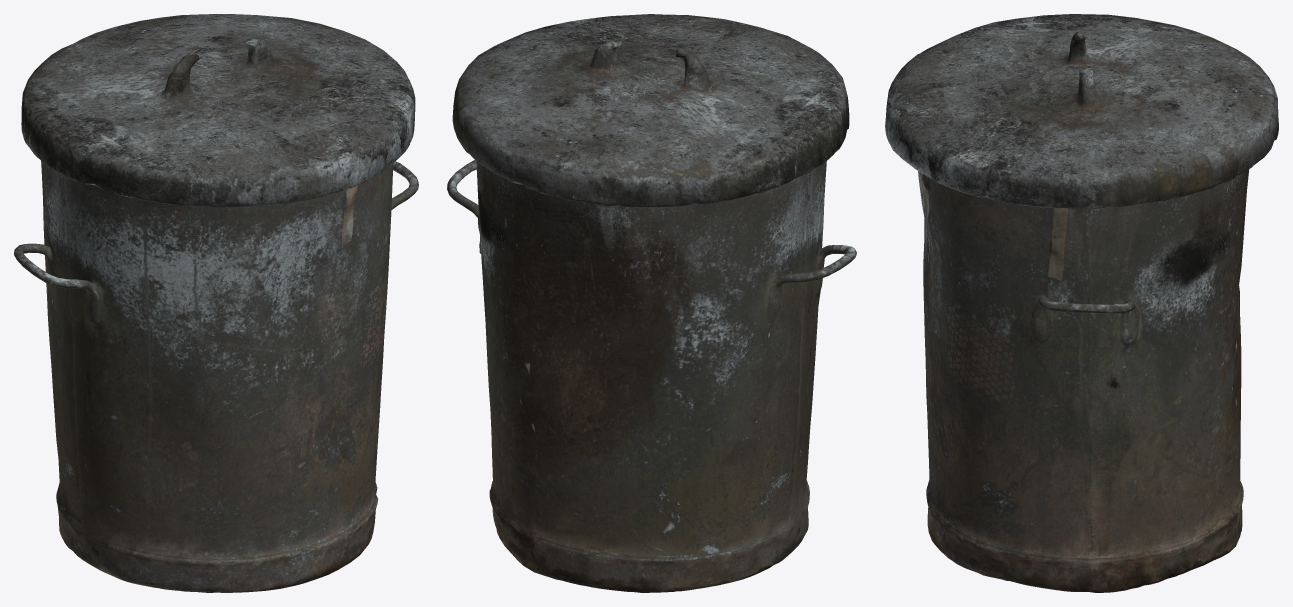
3 views of the same model, side by side, from view 1: azimuth 30°, elevation 25°; view 2: azimuth 150°, elevation 25°; view 3: azimuth 270°, elevation 25° (orthographic).
Visible parts, largest first — view 1: SM_ucynedrfa; view 2: SM_ucynedrfa; view 3: SM_ucynedrfa.
Part boxes in pixels (left/top/right/bottom): SM_ucynedrfa: left=14, top=14, right=418, bottom=592; SM_ucynedrfa: left=447, top=14, right=856, bottom=592; SM_ucynedrfa: left=885, top=14, right=1278, bottom=592.
Bounding box in the file's own units: 0.4893 × 0.5908 × 0.4386.
1 material, 1 textured.
